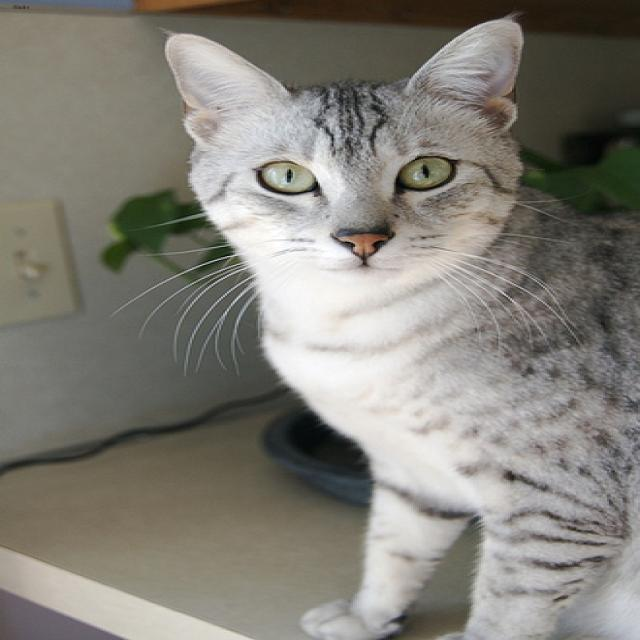Egyptian_Mau: (161, 18, 520, 289)
